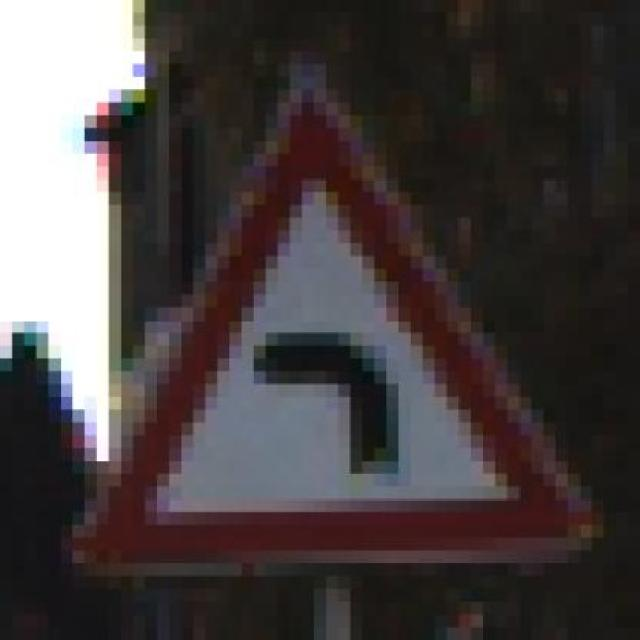Dangerous Left Curve Ahead: (62, 63, 593, 575)
